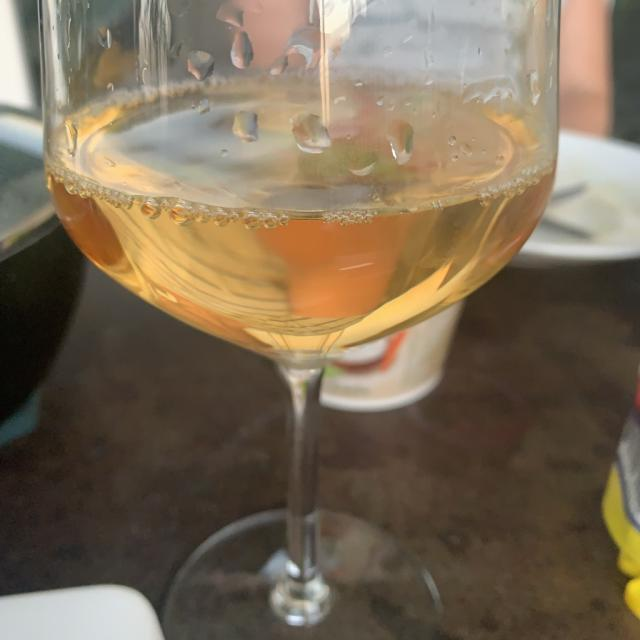wine-white: (56, 83, 546, 353)
